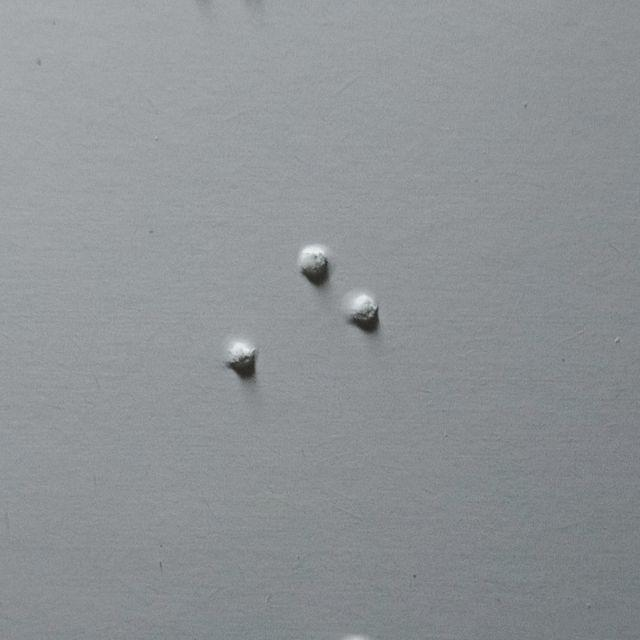E: (296, 245, 379, 381)
capital: (179, 242, 262, 379)
